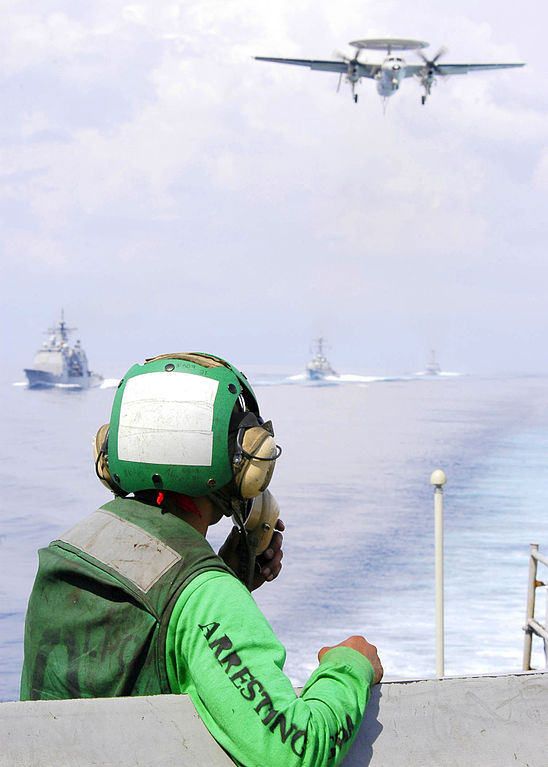E2: (250, 37, 528, 116)
